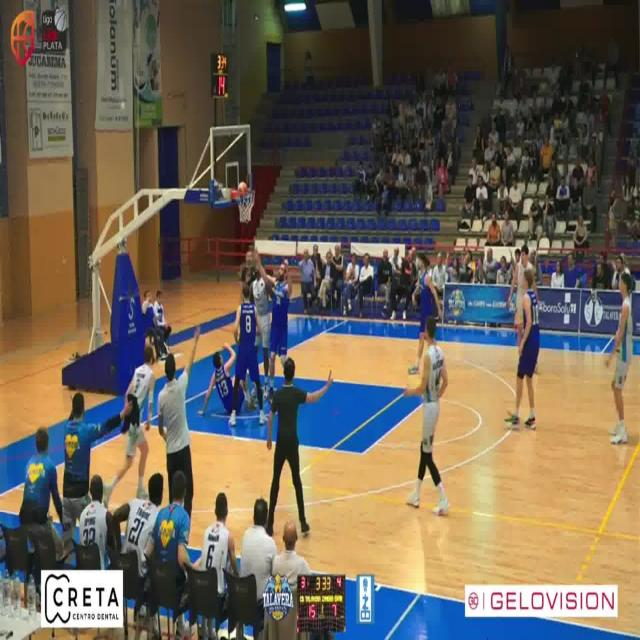ball: (231, 181, 250, 198)
basket: (231, 181, 255, 222)
bench person: (61, 392, 128, 552), (157, 326, 199, 517)
player: (405, 315, 450, 516), (103, 343, 156, 505), (254, 241, 292, 399), (506, 267, 541, 429), (228, 282, 266, 426), (607, 271, 634, 444), (408, 252, 442, 374), (244, 265, 272, 399), (198, 343, 236, 415), (508, 242, 532, 345)
referee: (267, 357, 333, 536), (238, 241, 255, 299)
